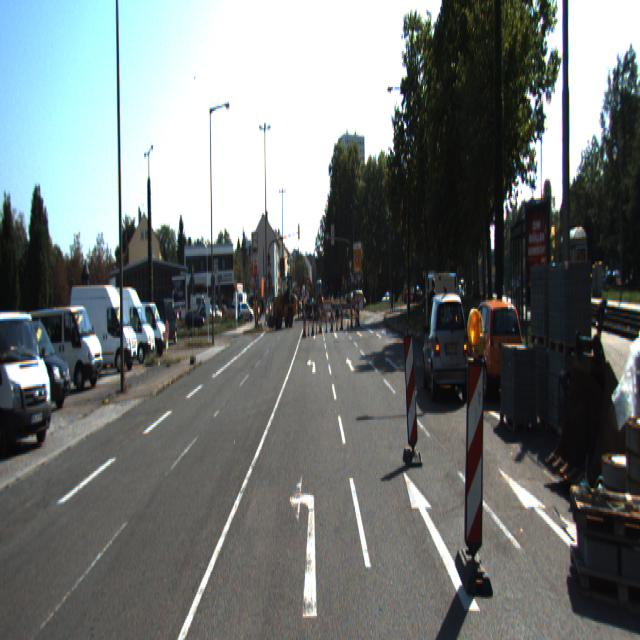Car: (0, 309, 54, 462), (0, 321, 73, 418), (27, 307, 105, 396), (68, 280, 138, 374), (464, 298, 524, 395), (420, 294, 470, 404), (94, 285, 155, 367), (266, 275, 298, 331)
